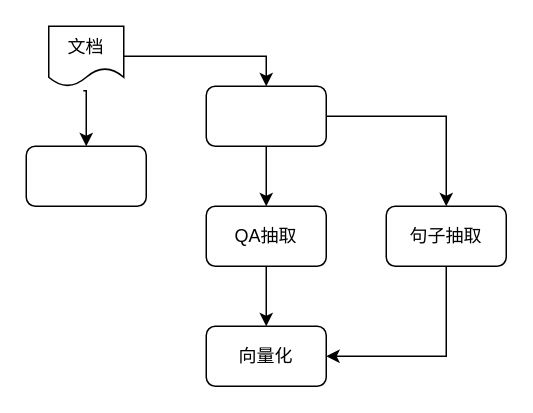
This 533x413 diagram has some shape labels left out. The box of each missing label's shape, as (x1, y1, x2, y2) in pixels:
分片: (205, 85, 326, 146)
存Ceph: (25, 145, 146, 206)
